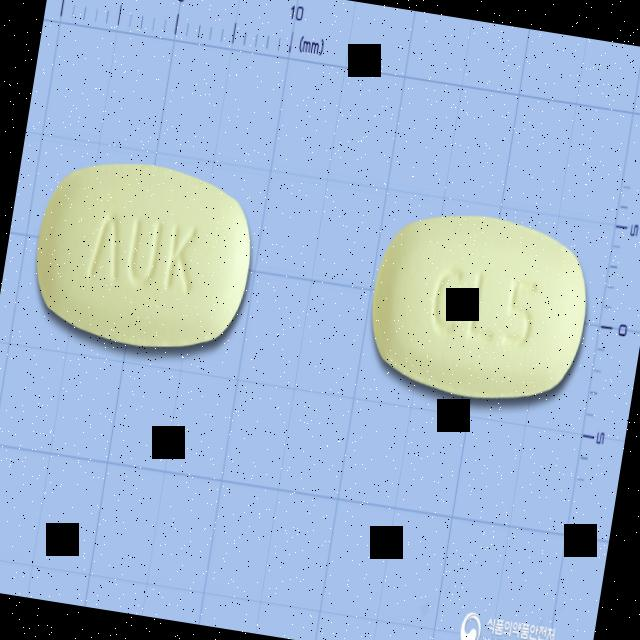Auscle: (21, 144, 267, 373)
